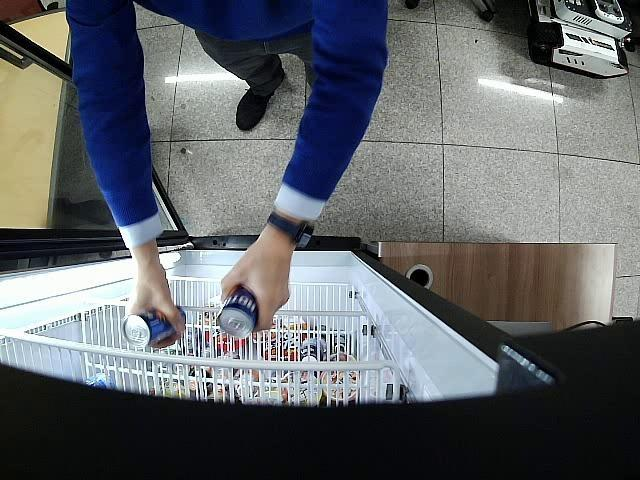16_hot6: (122, 306, 184, 346), (218, 287, 258, 338)
